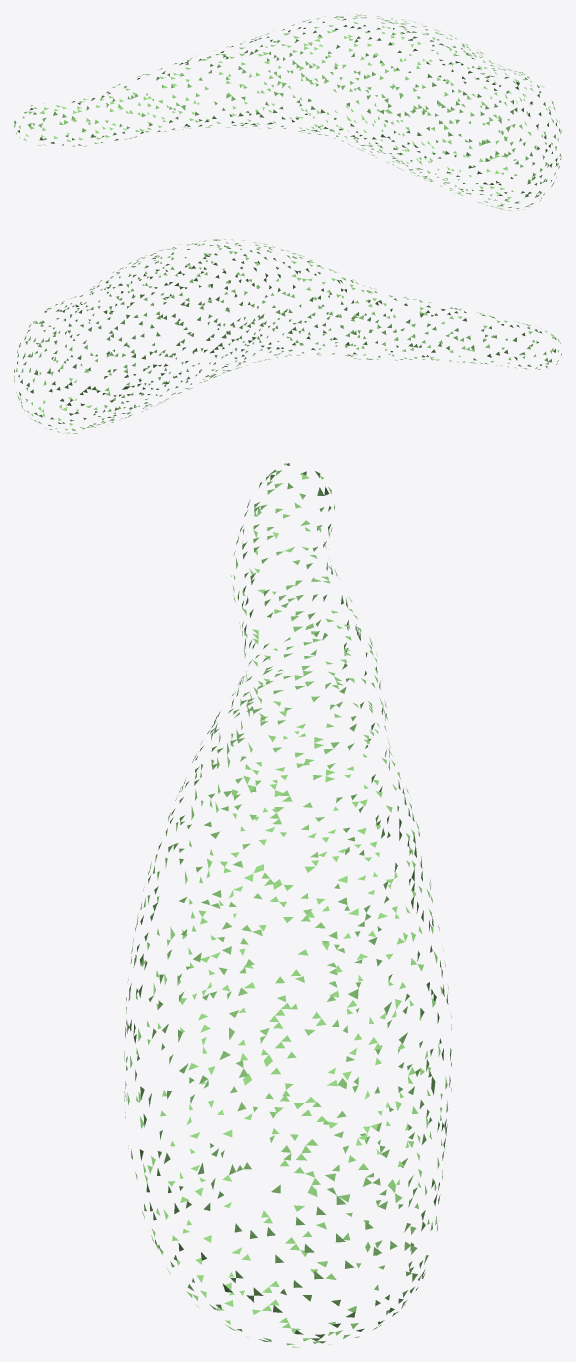
The model's file is morph_015.glb.
3 views of the same model, one above another, from view 1: azimuth 30°, elevation 25°; view 2: azimuth 150°, elevation 25°; view 3: azimuth 270°, elevation 25° (orthographic). The views are drawn at different scales.
Size of the model in its own units: 86.32 by 34.71 by 23.33.
